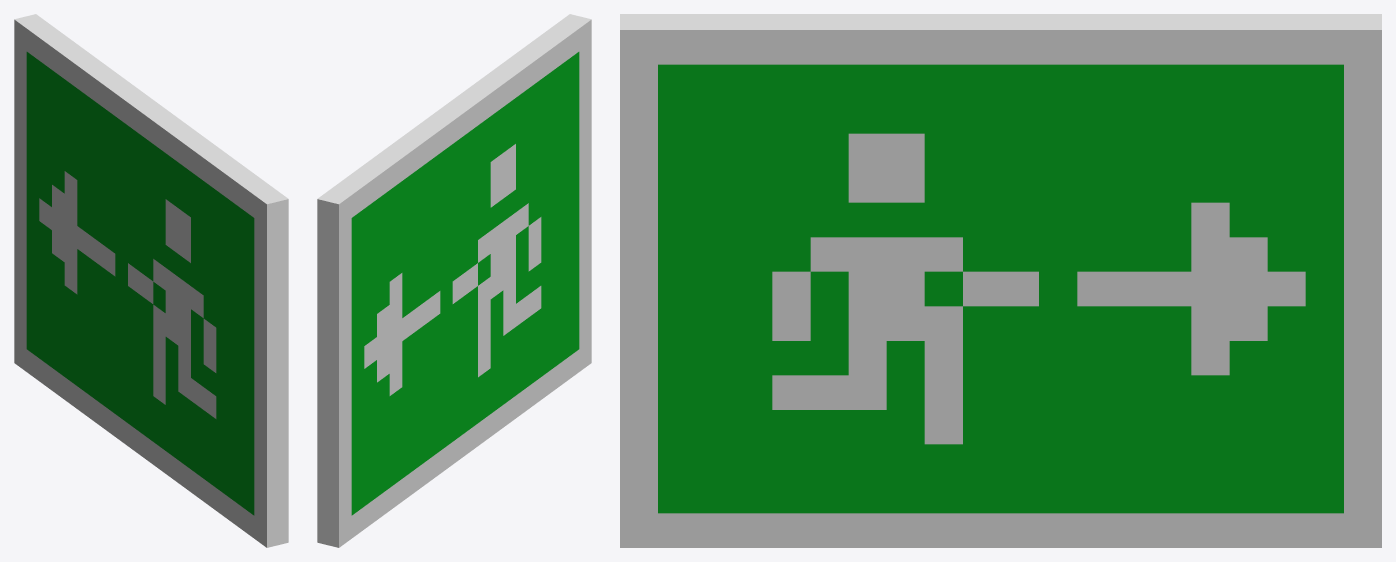
Rendered from SchoolPack-47-Escape signal.obj.
3 views of the same model, side by side, from view 1: azimuth 30°, elevation 25°; view 2: azimuth 150°, elevation 25°; view 3: azimuth 270°, elevation 25° (orthographic). The views are drawn at different scales.
Parts seen in each view (by area): view 1: Escape signal; view 2: Escape signal; view 3: Escape signal.
Part boxes in pixels (bbox=[...]): Escape signal: bbox=[14, 14, 288, 547]; Escape signal: bbox=[317, 14, 591, 547]; Escape signal: bbox=[620, 14, 1381, 547].
Size of the model in its own units: 0.1 by 1.5 by 2.
1 material, 1 textured.
